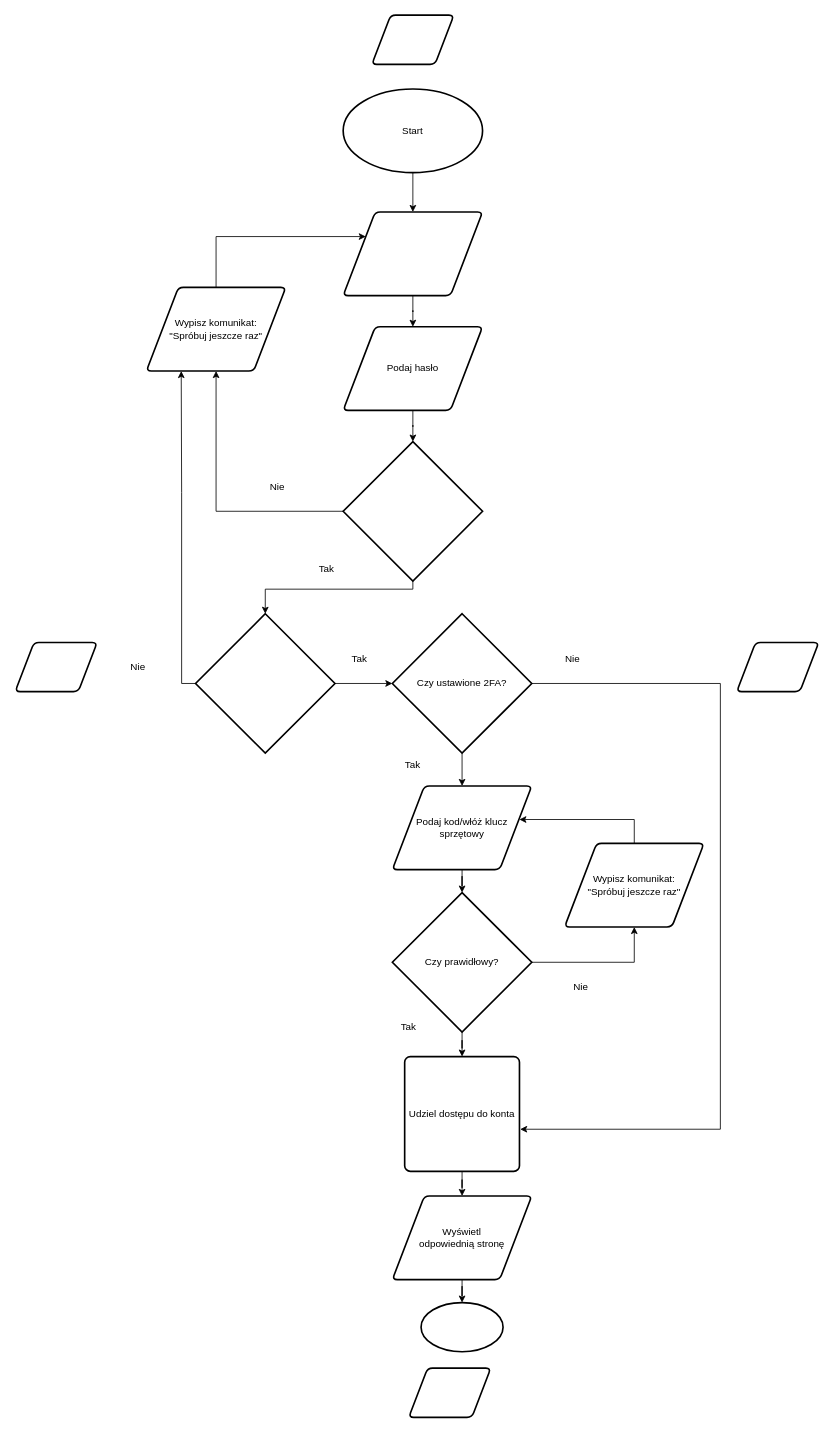
This 833x1432 diagram has some shape labels left out. The centre of each missing label's shape, as x and y in pixels:
"Czy hasło jest poprawne?" goes at [264,683].
"Czy konto z powiązanym e-mailem istnieje?" goes at [412,510].
"Koniec" goes at [461,1326].
"Podaj e-mail" goes at [412,253].
